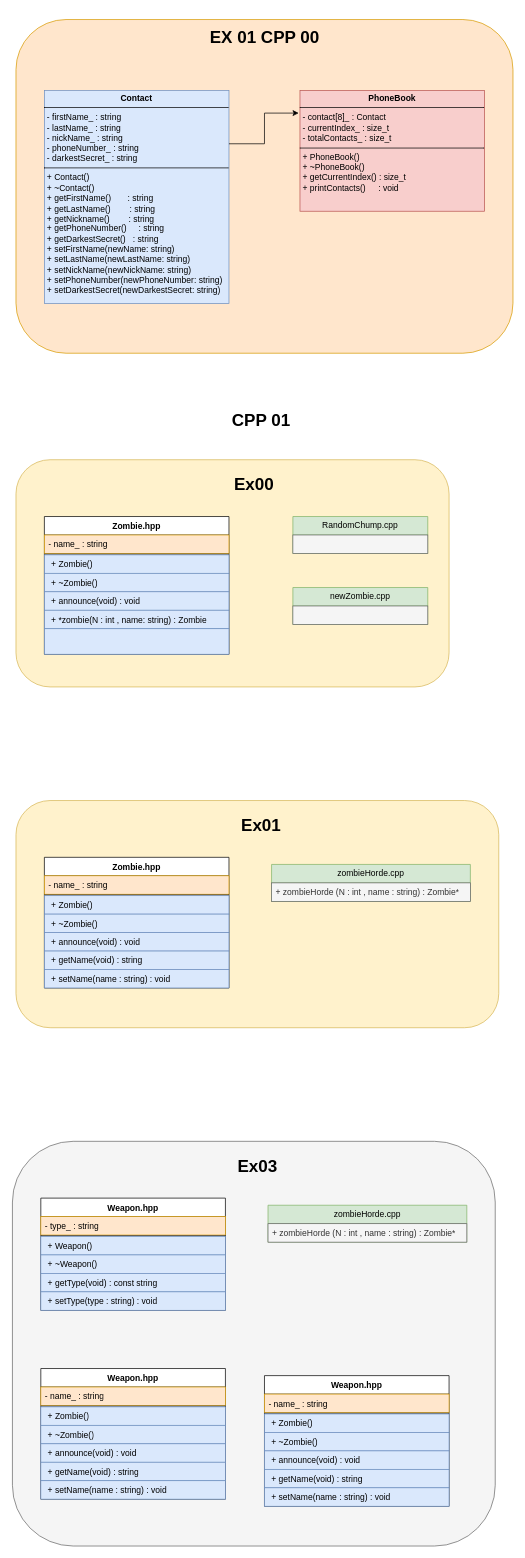
This 525x1558 diagram has some shape labels left out. The shapes that lost their labels are listed below. From the top down, each one's box as (x1, y1, x2, y2) in pixels, then its label:
(292, 534, 428, 553): + randomChump : Zombie
(292, 605, 428, 624): + zombieHorde : Zombie*
(44, 628, 229, 654): + randomChump (name : string ) : void
